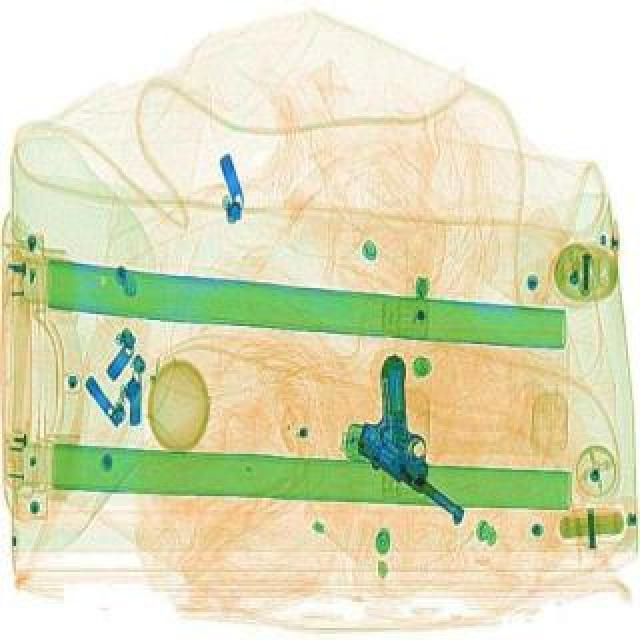gun: (320, 348, 524, 528)
